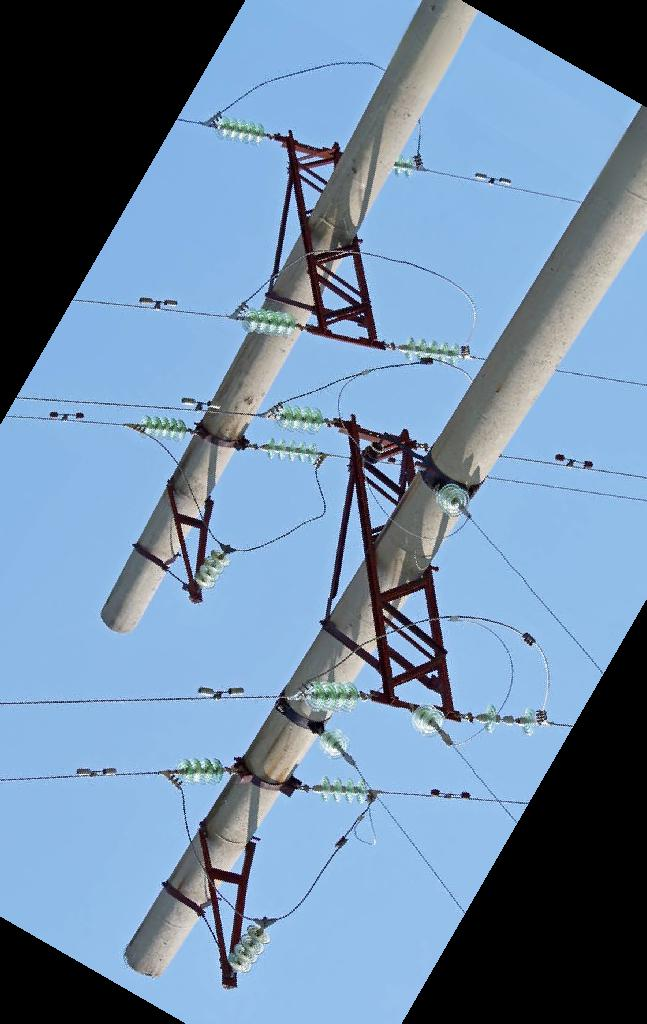insulator: (224, 923, 273, 975), (483, 699, 540, 743), (302, 678, 362, 716), (236, 306, 299, 341), (316, 774, 372, 809), (211, 114, 267, 149), (404, 334, 463, 367), (266, 434, 322, 468), (189, 547, 233, 590), (136, 412, 190, 447), (273, 401, 326, 435), (173, 754, 226, 787), (431, 480, 474, 519), (408, 702, 448, 739), (315, 725, 355, 762), (392, 153, 417, 179)
insulator_stringdrop: (482, 702, 543, 740)
